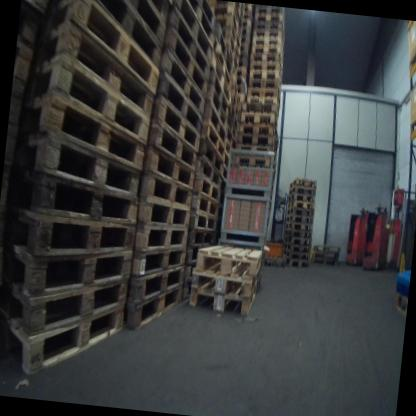pallet: (116, 0, 182, 338), (35, 20, 159, 120), (45, 0, 167, 98), (0, 294, 124, 384), (30, 53, 150, 145), (1, 264, 129, 342), (20, 125, 144, 201), (29, 92, 149, 170), (6, 242, 134, 312), (21, 167, 141, 228), (12, 209, 137, 267), (157, 52, 211, 122), (159, 28, 212, 97), (140, 145, 193, 209), (161, 15, 216, 75), (189, 274, 259, 318), (125, 261, 183, 313), (192, 238, 262, 281), (142, 119, 199, 171), (146, 98, 206, 147), (166, 0, 215, 56), (155, 79, 206, 131), (190, 262, 260, 296), (137, 193, 189, 231), (133, 219, 188, 254), (205, 23, 239, 77), (134, 247, 185, 282), (198, 85, 232, 132), (204, 54, 235, 104), (206, 41, 236, 91), (204, 72, 232, 123), (200, 99, 229, 148), (183, 0, 217, 39), (214, 15, 245, 50), (200, 119, 227, 159), (236, 125, 279, 150), (198, 137, 227, 173), (193, 168, 223, 202), (240, 131, 278, 157), (193, 153, 222, 185), (187, 207, 218, 235), (248, 80, 284, 104), (244, 88, 284, 109), (215, 38, 243, 67), (185, 239, 211, 266), (242, 100, 277, 120), (183, 231, 216, 252), (192, 193, 219, 216), (249, 70, 283, 88), (253, 36, 283, 56), (250, 30, 284, 46), (285, 175, 316, 192), (239, 111, 274, 126), (245, 97, 280, 112), (249, 49, 278, 66), (19, 0, 46, 18), (223, 119, 241, 145), (287, 197, 313, 213), (260, 254, 284, 271), (391, 292, 408, 316), (252, 6, 281, 20), (179, 277, 194, 304), (287, 185, 315, 199), (280, 234, 312, 246), (285, 211, 312, 225), (227, 93, 241, 119), (252, 44, 280, 57), (227, 104, 240, 131), (310, 249, 339, 261), (288, 190, 314, 203), (286, 205, 312, 218), (282, 251, 310, 263), (284, 220, 311, 232), (231, 78, 243, 105), (222, 125, 236, 148), (283, 243, 311, 254), (308, 257, 336, 268), (251, 23, 281, 33), (251, 17, 282, 26), (181, 262, 195, 280), (282, 228, 310, 237), (247, 62, 278, 70), (202, 4, 217, 20), (313, 242, 339, 251), (286, 260, 307, 269), (215, 31, 241, 38)
pallet_truck: (360, 198, 397, 277), (340, 199, 370, 274)
stillage: (216, 191, 273, 249), (222, 145, 278, 198)
